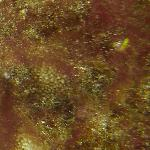dead: (2, 1, 142, 148)
